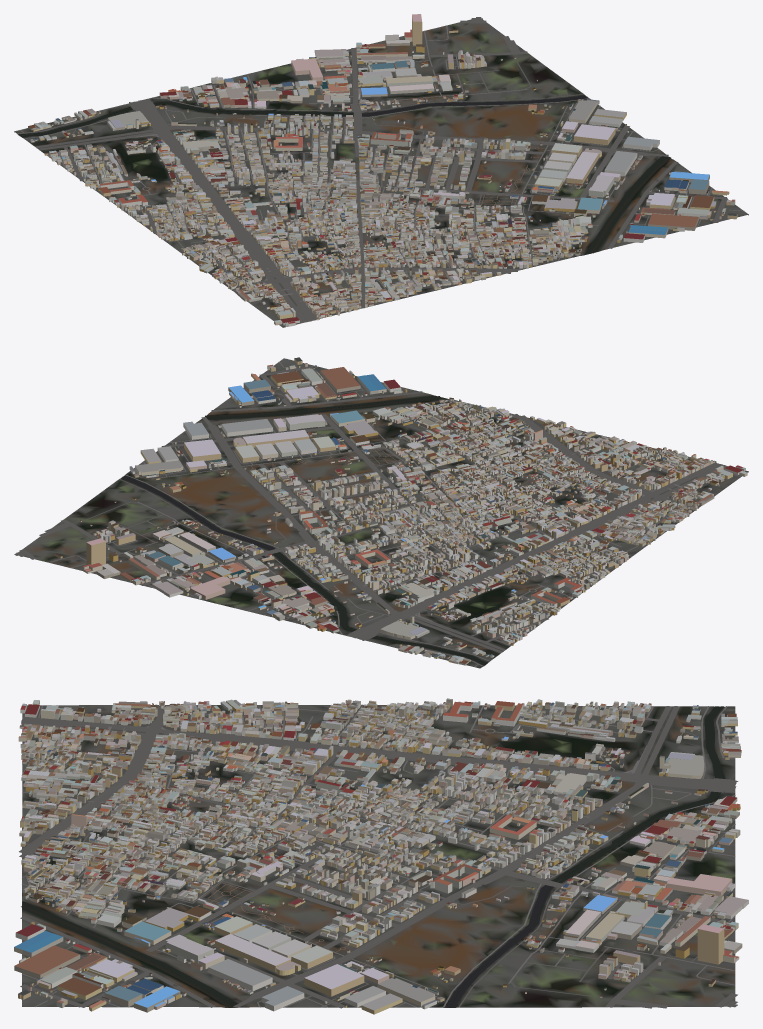
3 views of the same model, one above another, from view 1: azimuth 30°, elevation 25°; view 2: azimuth 150°, elevation 25°; view 3: azimuth 270°, elevation 25° (orthographic). The views are drawn at different scales.
Visible parts, largest first — view 1: buildings, ground, roads, water; view 2: buildings, ground, roads, water; view 3: buildings, ground, roads, water.
Boxes of the visible parts, x1,y1,x2,y2 form: buildings: (28,14,737,326); ground: (14,19,748,327); roads: (17,17,743,326); water: (19,95,670,254); buildings: (54,357,747,665); ground: (19,358,748,668); roads: (14,361,741,667); water: (121,395,486,665); buildings: (14,698,748,1014); ground: (22,705,735,1007); roads: (19,704,738,1008); water: (21,706,725,1007).
Size of the model in its own units: 1445 by 73.88 by 1443.
